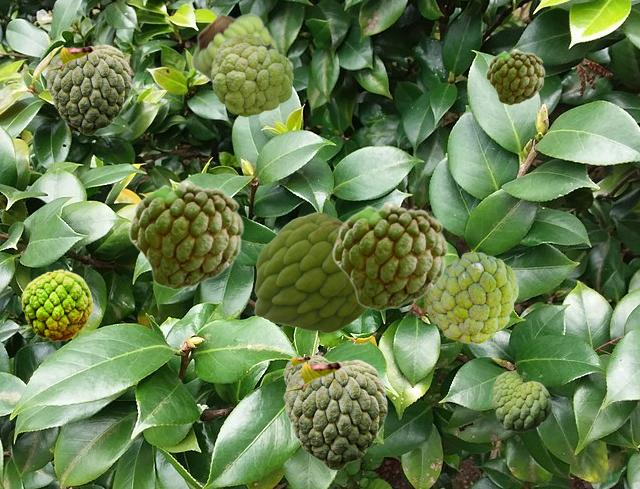atis: (254, 212, 368, 332), (127, 179, 243, 289), (331, 200, 447, 310), (283, 359, 386, 469), (424, 252, 517, 342), (45, 44, 130, 134), (211, 34, 292, 115), (191, 12, 279, 83), (21, 269, 91, 340), (492, 370, 550, 431), (485, 48, 544, 104), (283, 355, 328, 385)
